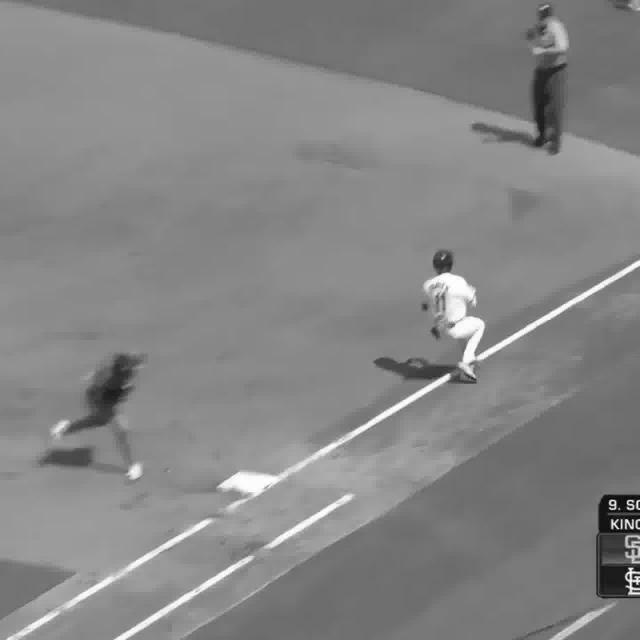base: (212, 470, 280, 496)
shoe: (50, 419, 72, 441), (458, 362, 477, 386), (125, 464, 143, 481)
